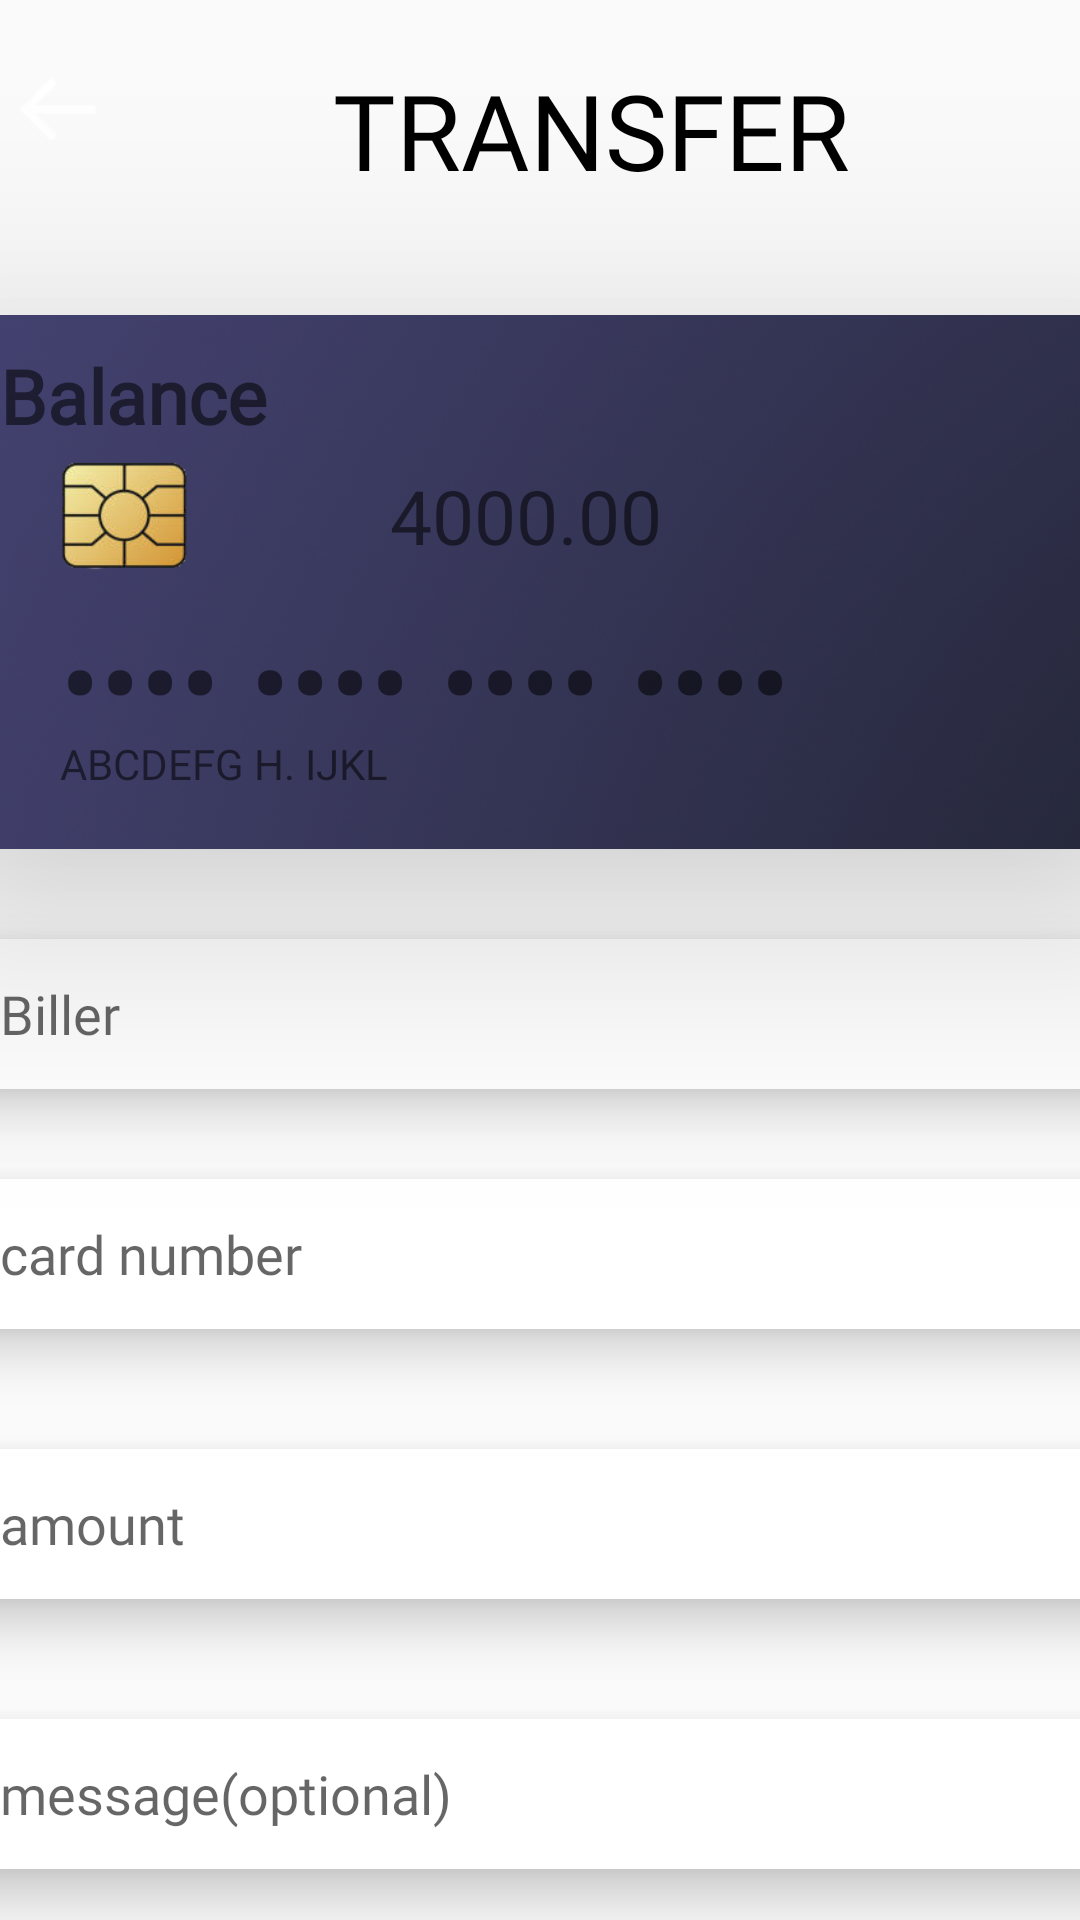

Where icons sit on this 1080*1920 app screen, as (x1, y1, x2, y2):
sim: (62, 463, 187, 569)
